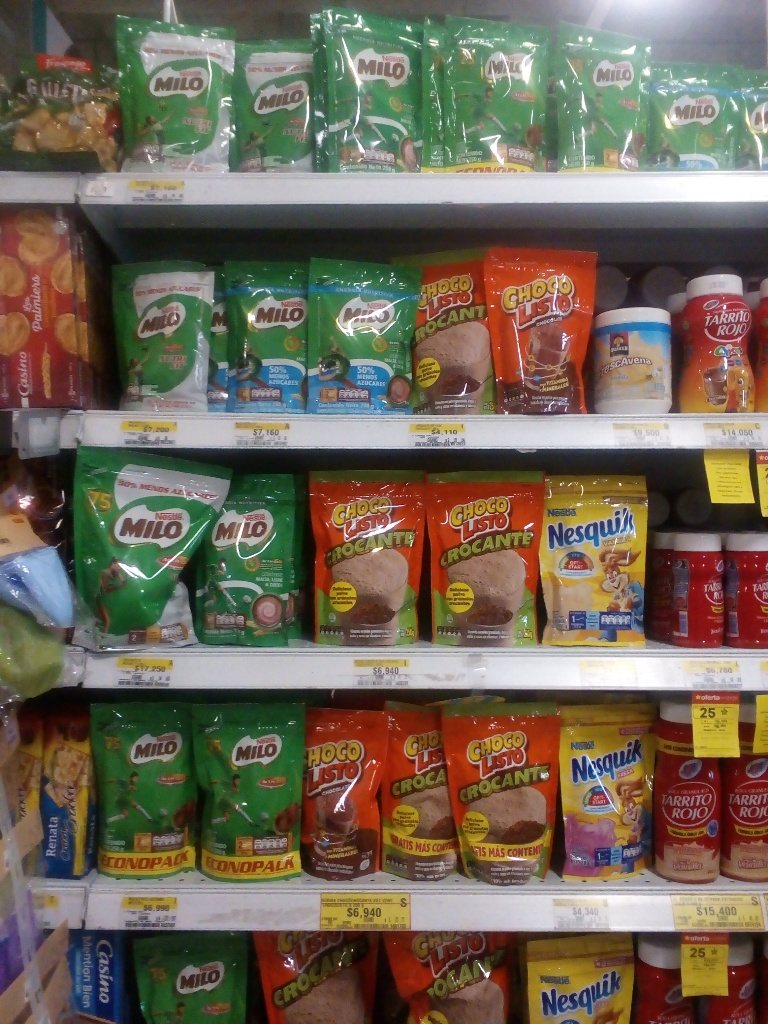COL0170102DYP25000: (305, 467, 429, 646)
COL0170103DYP20000: (491, 236, 596, 416)
COL0170203DYP10000: (198, 475, 298, 648)
COL0170203DYP25000: (194, 704, 305, 882)
COL0170205DYP20000: (308, 254, 418, 414)
COL0170305DYP20000: (556, 705, 662, 886)
COL0170306DYP20000: (544, 472, 650, 650)
